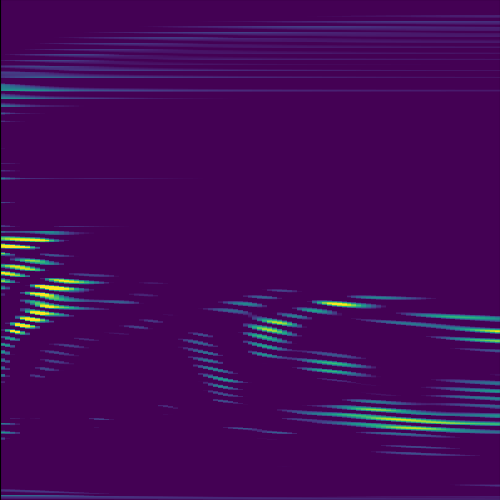semblance: (22, 274, 111, 311), (1, 225, 75, 255), (1, 256, 62, 287)
